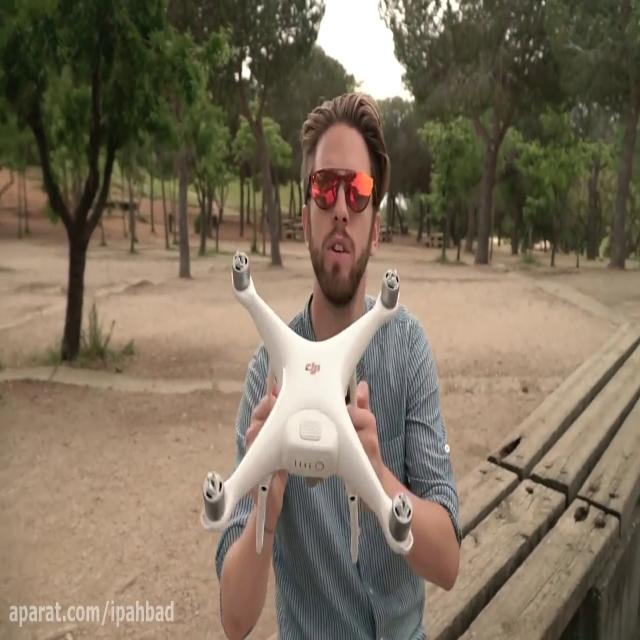drone: (198, 247, 414, 557)
